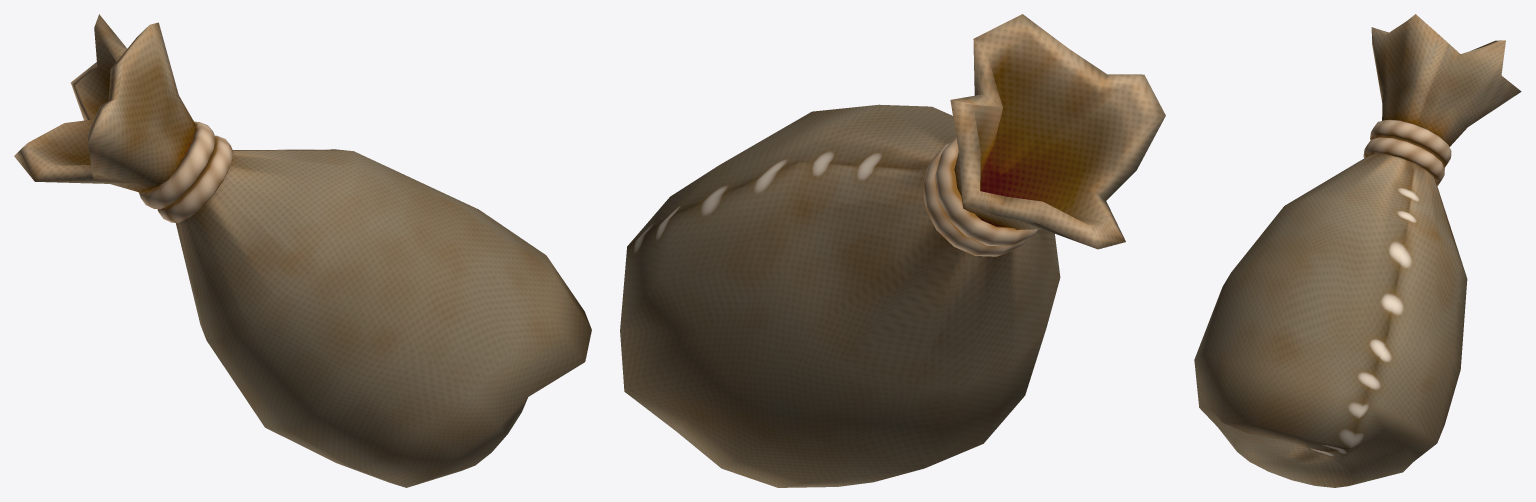
The model's file is Sack_B.fbx.
3 views of the same model, side by side, from view 1: azimuth 30°, elevation 25°; view 2: azimuth 150°, elevation 25°; view 3: azimuth 270°, elevation 25° (orthographic). The views are drawn at different scales.
Parts seen in each view (by area): view 1: U_Sack_B; view 2: U_Sack_B; view 3: U_Sack_B.
Part boxes in pixels (bbox=[...]): U_Sack_B: bbox=[14, 14, 591, 487]; U_Sack_B: bbox=[620, 14, 1165, 487]; U_Sack_B: bbox=[1194, 14, 1521, 487].
Size of the model in its own units: 63.25 by 59.09 by 46.11.
Materials: 1 (1 with a texture image).
